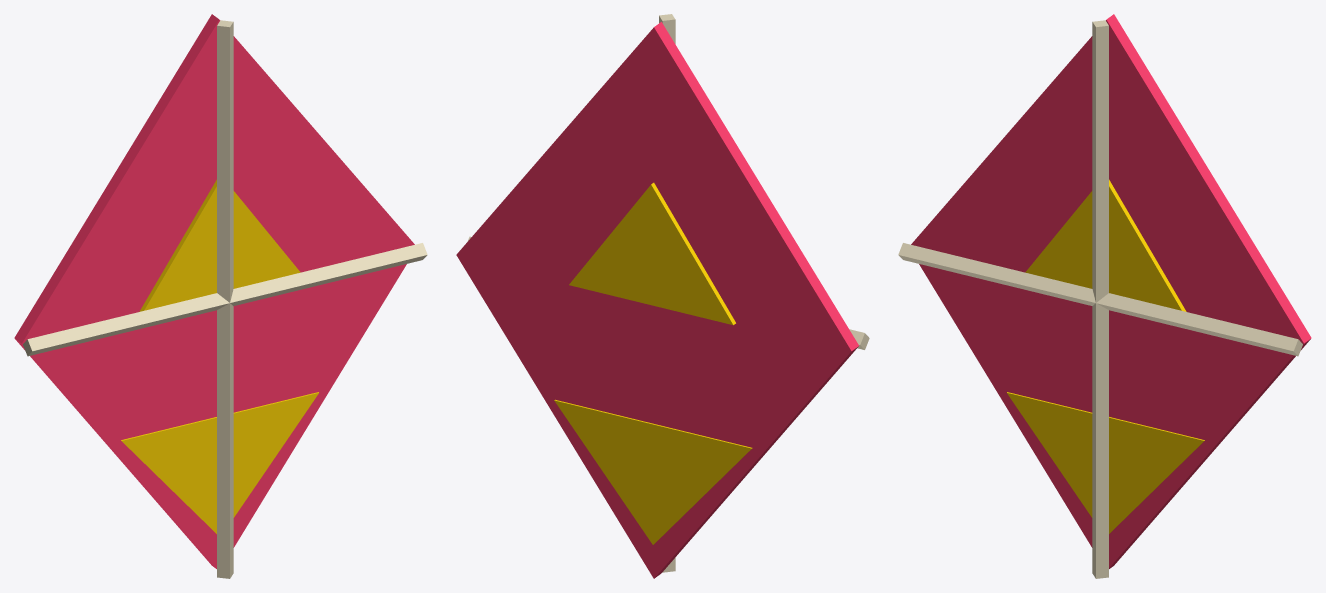
The model's file is kite.glb.
3 renders of one model, left to right at view 1: azimuth 30°, elevation 25°; view 2: azimuth 150°, elevation 25°; view 3: azimuth 330°, elevation 25°, orthographic.
Parts seen in each view (by area): view 1: Kite_Paper, Kite_Patch, Kite_Spine; view 2: Kite_Paper, Kite_Patch, Kite_Spine; view 3: Kite_Paper, Kite_Patch, Kite_Spine.
Boxes of the visible parts, x1=… form: Kite_Paper: x1=14, y1=14, x2=414, y2=568; Kite_Patch: x1=121, y1=179, x2=318, y2=533; Kite_Spine: x1=23, y1=20, x2=427, y2=578; Kite_Paper: x1=456, y1=22, x2=858, y2=578; Kite_Patch: x1=554, y1=182, x2=752, y2=544; Kite_Spine: x1=467, y1=14, x2=869, y2=572; Kite_Paper: x1=911, y1=14, x2=1311, y2=568; Kite_Patch: x1=1007, y1=179, x2=1204, y2=533; Kite_Spine: x1=898, y1=20, x2=1302, y2=578.
Size of the model in its own units: 2.4 by 3.2 by 0.22.
